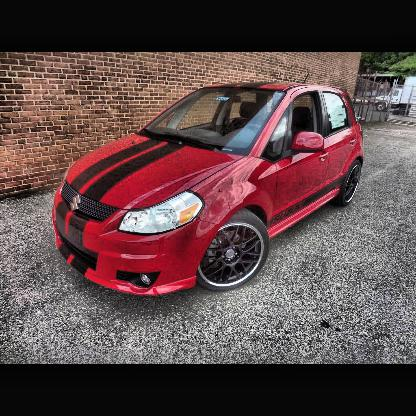Suzuki SX4 Hatchback 2012: (52, 82, 366, 298)
